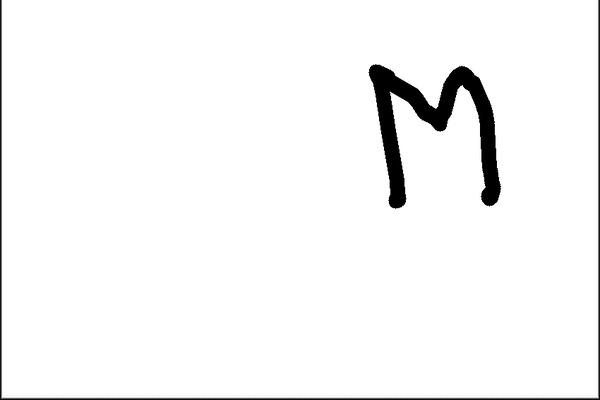M: (362, 57, 499, 213)
